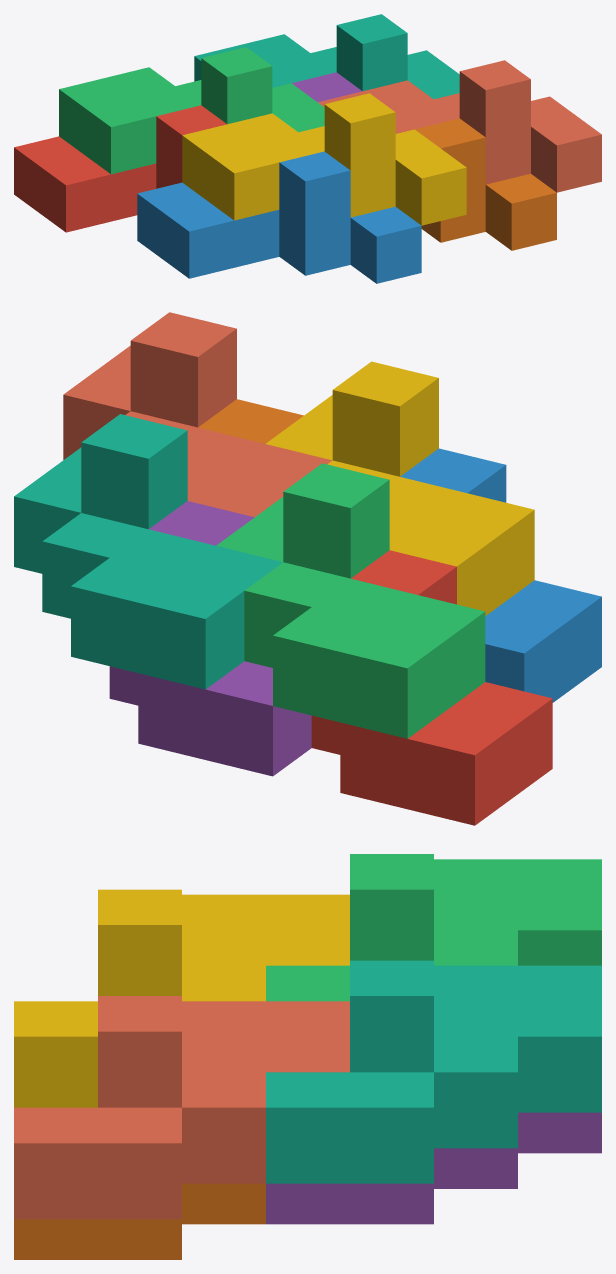
Rendered from tiling.obj.
3 views of the same model, one above another, from view 1: azimuth 30°, elevation 25°; view 2: azimuth 150°, elevation 25°; view 3: azimuth 270°, elevation 25° (orthographic). The views are drawn at different scales.
Parts seen in each view (by area): view 1: copy_1_domain_4, copy_1_domain_2, copy_1_domain_3, copy_1_domain_8, copy_1_domain_1, copy_1_domain_7, copy_1_domain_6, copy_1_domain_5; view 2: copy_1_domain_3, copy_1_domain_7, copy_1_domain_4, copy_1_domain_1, copy_1_domain_8, copy_1_domain_5, copy_1_domain_2, copy_1_domain_6; view 3: copy_1_domain_7, copy_1_domain_8, copy_1_domain_4, copy_1_domain_3, copy_1_domain_5, copy_1_domain_6.
Boxes of the visible parts, left/top/right/bottom form: copy_1_domain_4: left=182, top=93, right=466, bottom=225; copy_1_domain_2: left=137, top=151, right=421, bottom=283; copy_1_domain_3: left=59, top=47, right=324, bottom=174; copy_1_domain_8: left=318, top=60, right=601, bottom=192; copy_1_domain_1: left=14, top=105, right=226, bottom=232; copy_1_domain_7: left=194, top=14, right=459, bottom=99; copy_1_domain_6: left=415, top=118, right=556, bottom=250; copy_1_domain_5: left=292, top=72, right=361, bottom=102; copy_1_domain_3: left=216, top=463, right=485, bottom=738; copy_1_domain_7: left=14, top=414, right=282, bottom=689; copy_1_domain_4: left=266, top=361, right=534, bottom=615; copy_1_domain_1: left=311, top=550, right=552, bottom=825; copy_1_domain_8: left=63, top=312, right=332, bottom=517; copy_1_domain_5: left=109, top=501, right=311, bottom=776; copy_1_domain_2: left=400, top=448, right=601, bottom=702; copy_1_domain_6: left=198, top=399, right=303, bottom=443; copy_1_domain_7: left=266, top=960, right=601, bottom=1183; copy_1_domain_8: left=14, top=996, right=349, bottom=1219; copy_1_domain_4: left=14, top=889, right=349, bottom=1107; copy_1_domain_3: left=266, top=854, right=601, bottom=1001; copy_1_domain_5: left=266, top=1112, right=601, bottom=1224; copy_1_domain_6: left=14, top=1183, right=265, bottom=1259.
Bounding box in the file's own units: 9 × 3 × 7.
